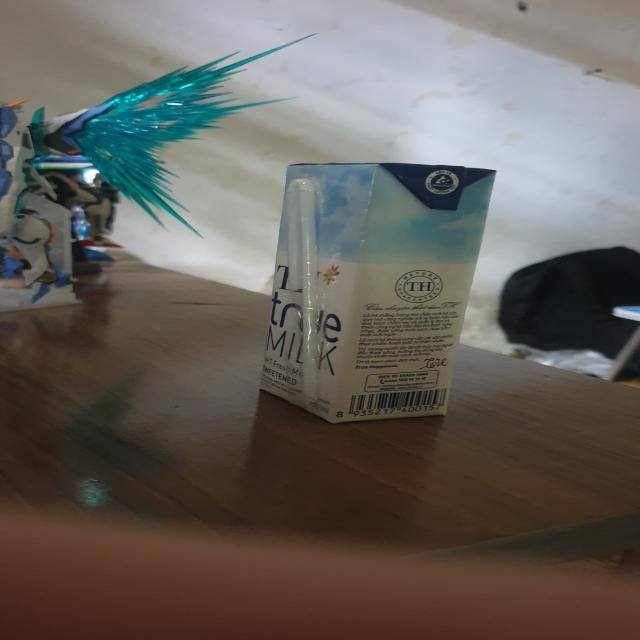TH: (255, 164, 495, 424)
